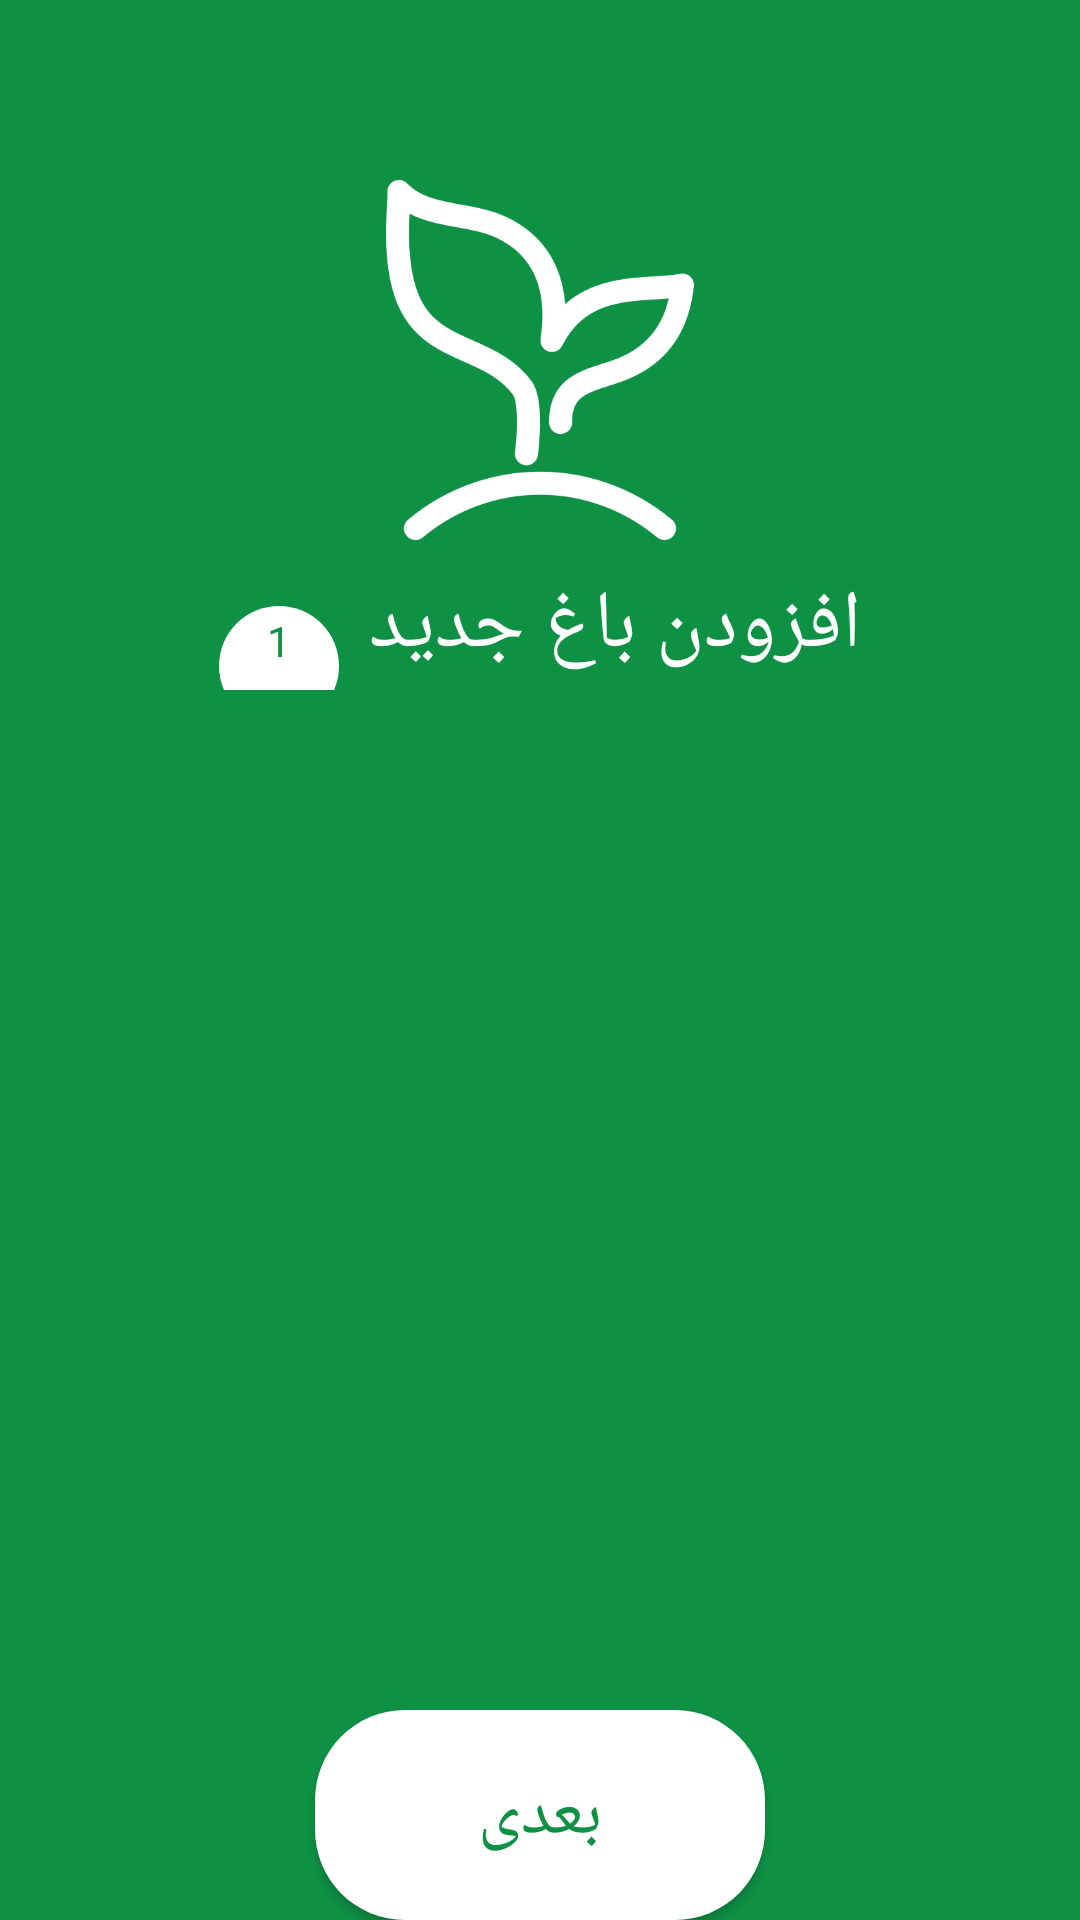

Locate icon controls on the screen. Image size 1080×1920, boxes as (x1=x1, y1=y1, x2=x2, y2=y2).
sprout: (x1=386, y1=180, x2=694, y2=540)
